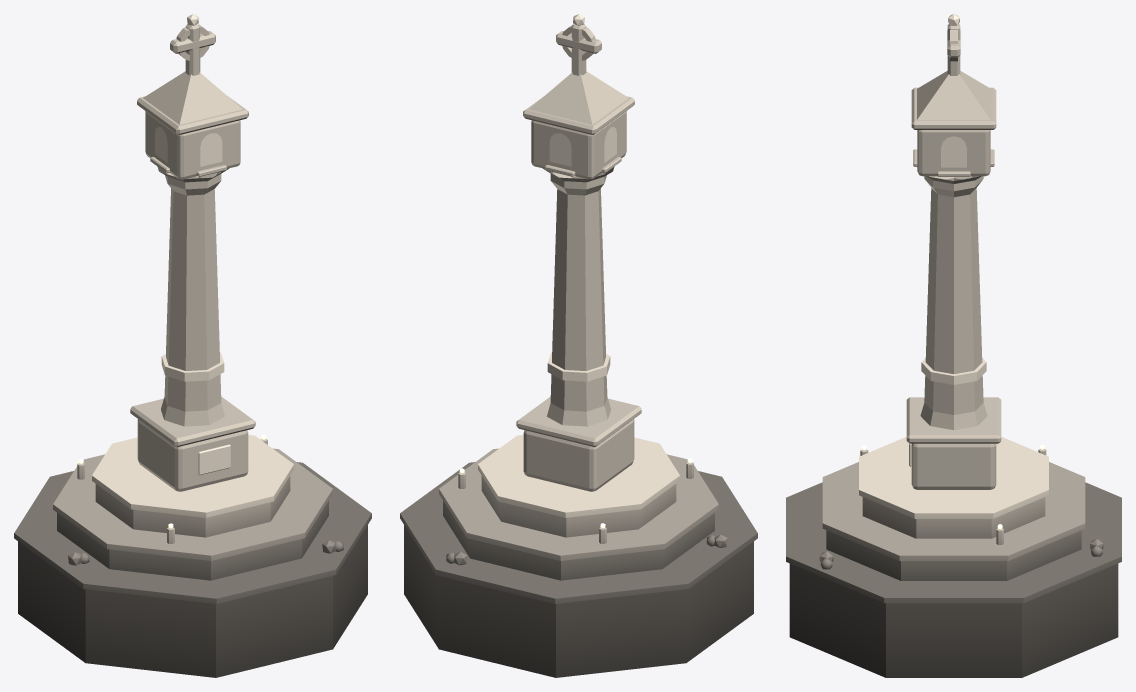
File: SM_VK_Prop_MarketCross.fbx
The picture shows the model from 3 angles, left to right: view 1: azimuth 30°, elevation 25°; view 2: azimuth 150°, elevation 25°; view 3: azimuth 270°, elevation 25°; orthographic projection.
Visible parts, largest first — view 1: SM_VK_Prop_MarketCross.001; view 2: SM_VK_Prop_MarketCross.001; view 3: SM_VK_Prop_MarketCross.001.
Part boxes in pixels (x1,y1,x2,y2): SM_VK_Prop_MarketCross.001: [14, 14, 371, 677]; SM_VK_Prop_MarketCross.001: [400, 14, 757, 677]; SM_VK_Prop_MarketCross.001: [786, 14, 1121, 677].
Size of the model in its own units: 3.4 by 6.64 by 3.4.
